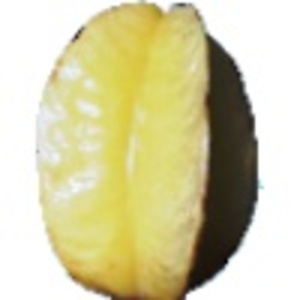carambola: (37, 1, 265, 300)
